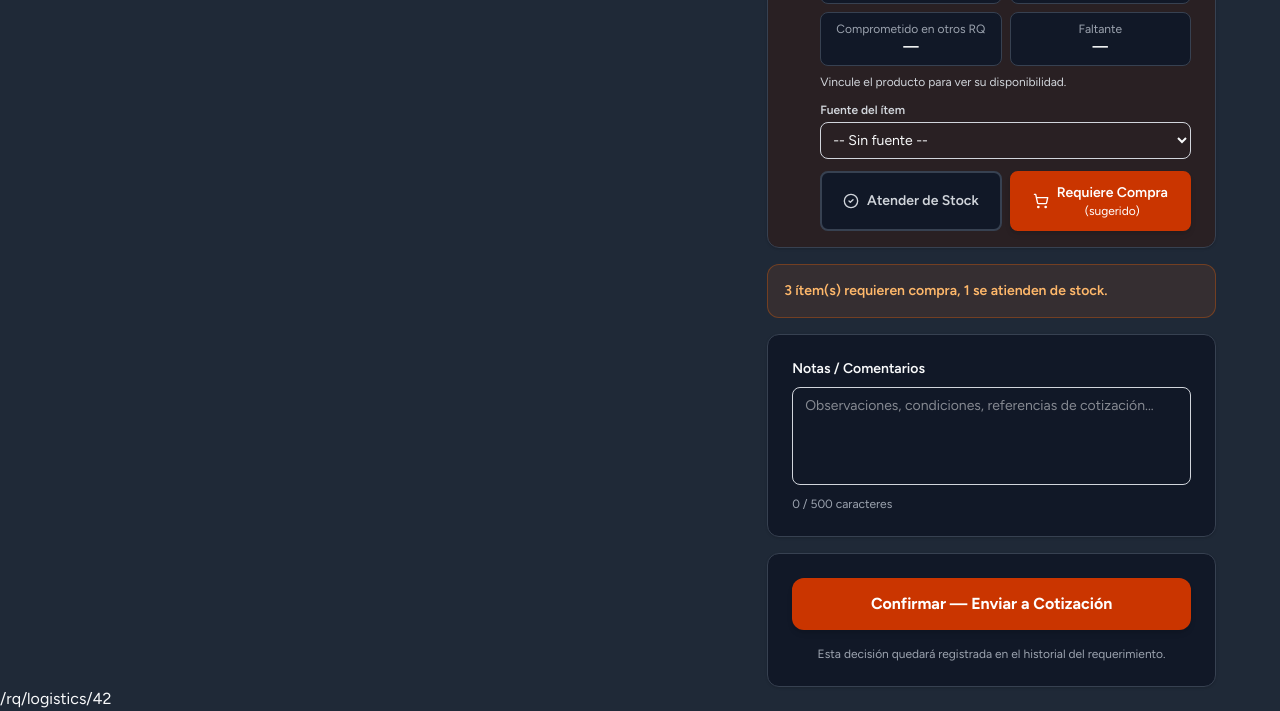
Scenario: LogisticsActionPage — aborta si update-items falla › un 409 (ítems ya despachados) NO envía STOCK_CHECKED y muestra el motivo
(page scrolled)
Click the button "Confirmar — Enviar a Cotización": coordinates (992, 604) 792,578 -> 1191,630
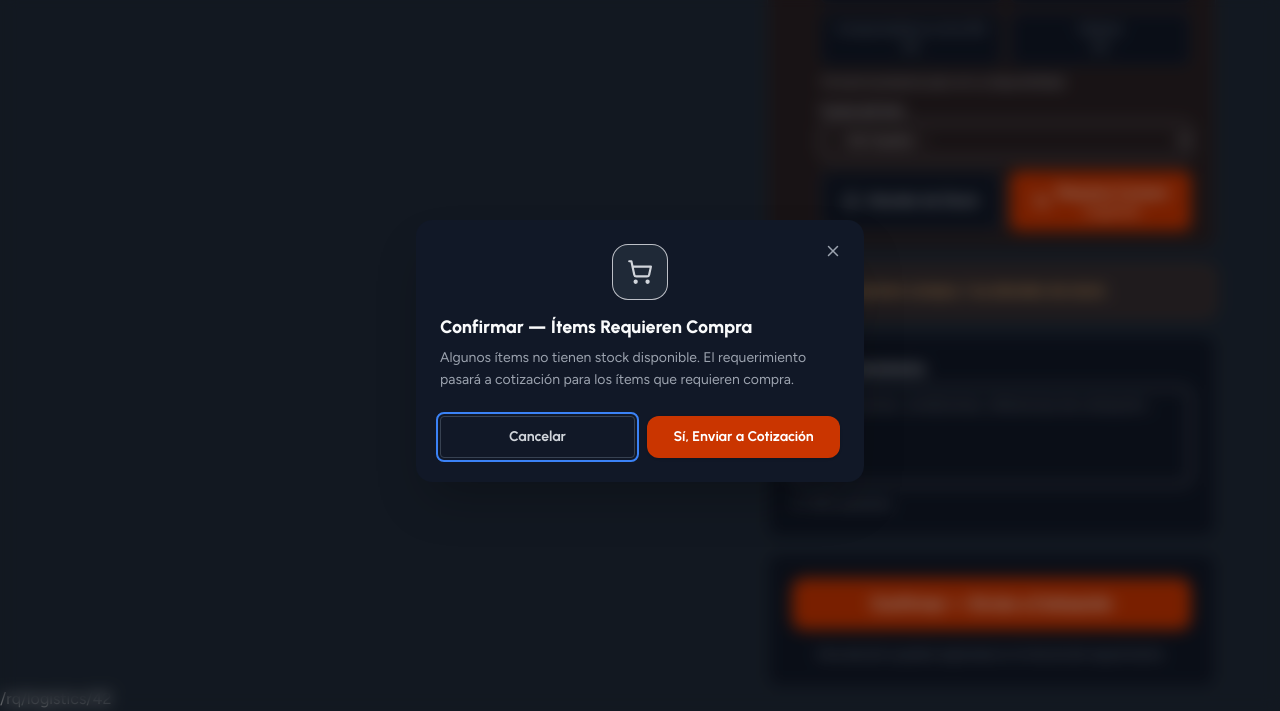
Click the button "Sí, Enviar a Cotización": coordinates (744, 437) 647,416 -> 840,458
(page scrolled)
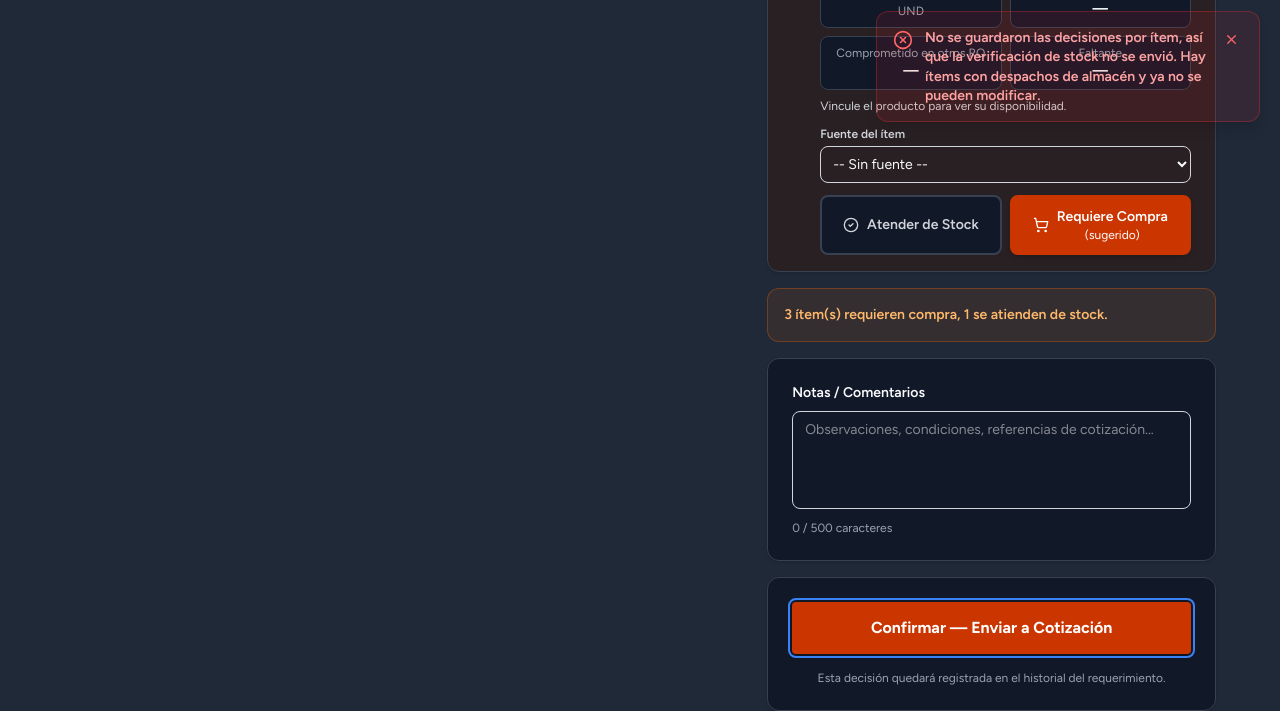
Expected: the button "Confirmar — Enviar a Cotización" is shown, 792,602 -> 1191,654
Expected: the text "la verificación de stock no se envió" shows "Hay ítems con despachos de almacén y ya no se pueden modificar.", 925,29 -> 1206,104
